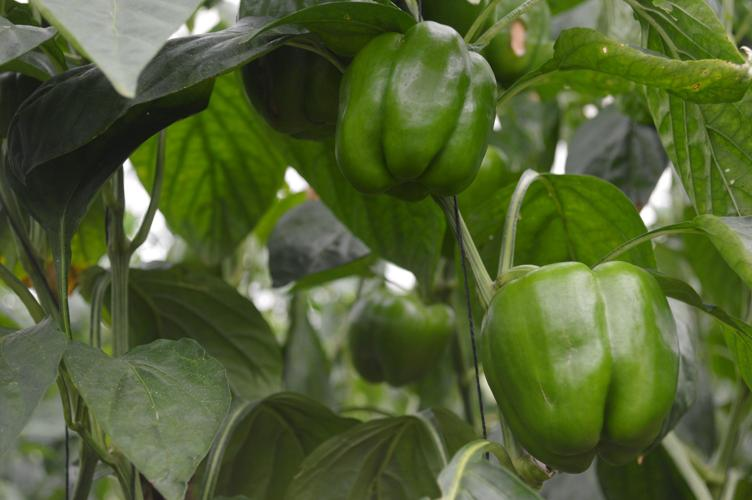BellPepper: (478, 263, 689, 471), (329, 20, 494, 205), (335, 283, 469, 395)
